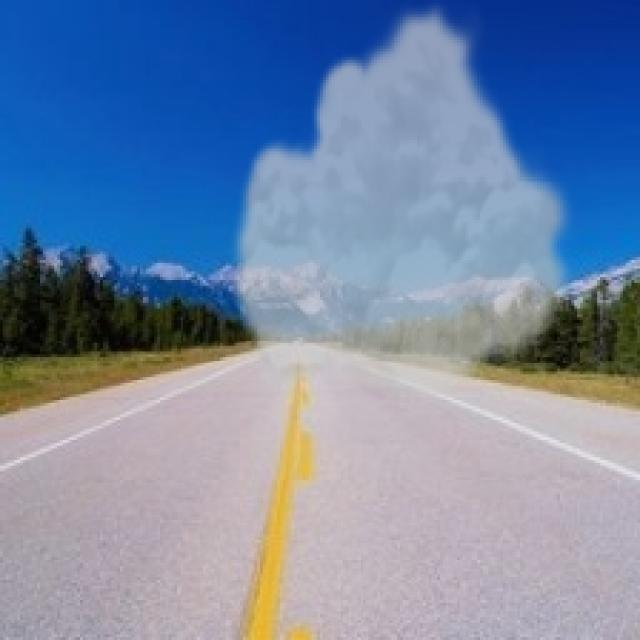smoke: (226, 0, 580, 403)
